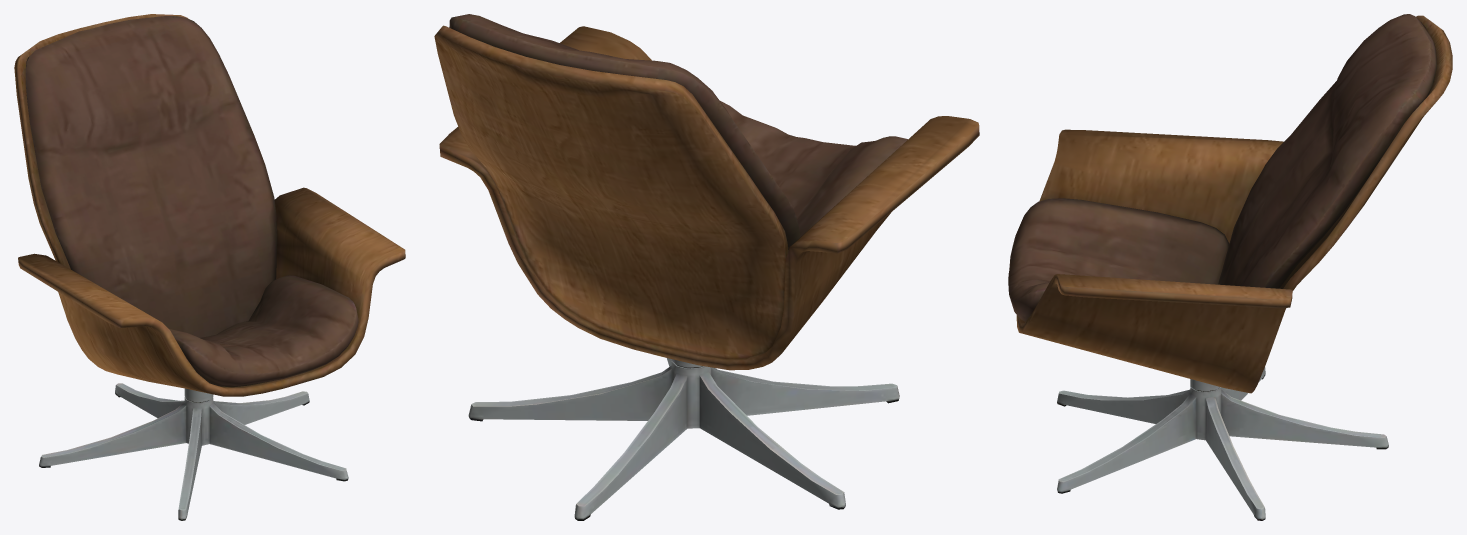
Rendered from mid_century_lounge_chair.glb.
The picture shows the model from 3 angles, left to right: view 1: azimuth 30°, elevation 25°; view 2: azimuth 150°, elevation 25°; view 3: azimuth 270°, elevation 25°; orthographic projection. The views are drawn at different scales.
Parts seen in each view (by area): view 1: mid_century_lounge_chair; view 2: mid_century_lounge_chair; view 3: mid_century_lounge_chair.
Part boxes in pixels (<box>): mid_century_lounge_chair: <box>14,14,405,520</box>; mid_century_lounge_chair: <box>434,14,979,520</box>; mid_century_lounge_chair: <box>1008,14,1452,520</box>.
Bounding box in the file's own units: 1.01 × 1.17 × 1.19.
1 material, 1 textured.
